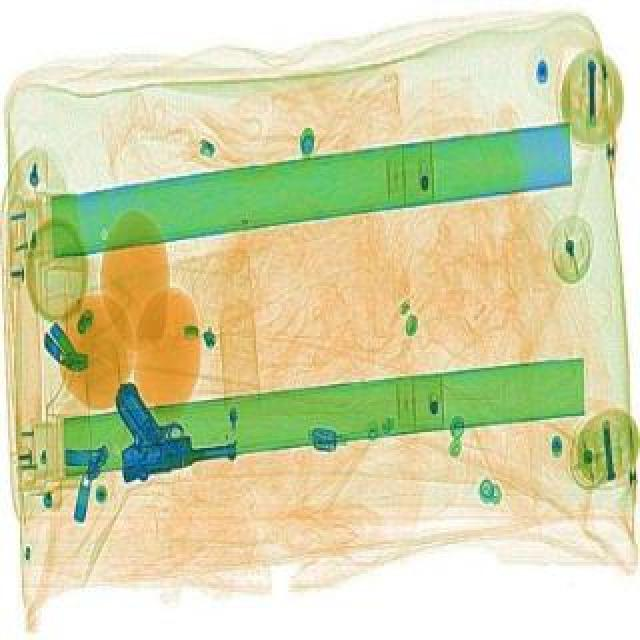gun: (116, 370, 242, 478)
